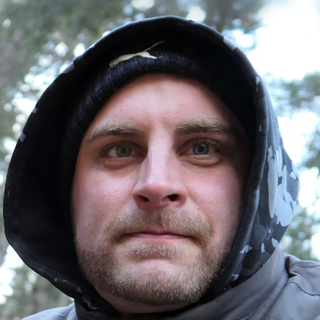eye: (179, 138, 226, 163), (97, 140, 144, 164)
